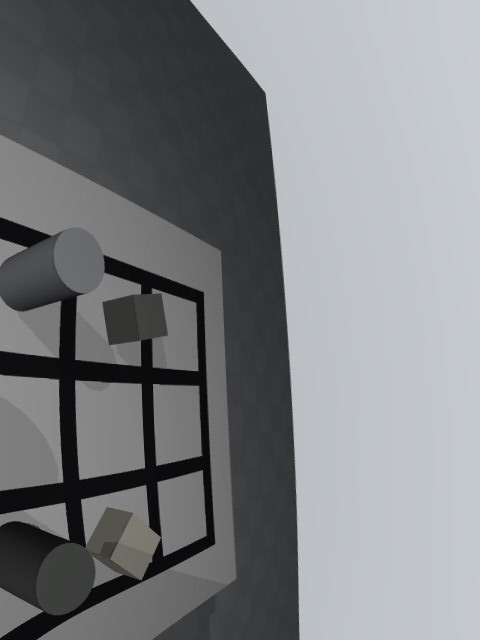can: (0, 227, 105, 312)
cube: (102, 294, 168, 346)
cylinder: (0, 521, 96, 616)
foam: (85, 507, 161, 580)
